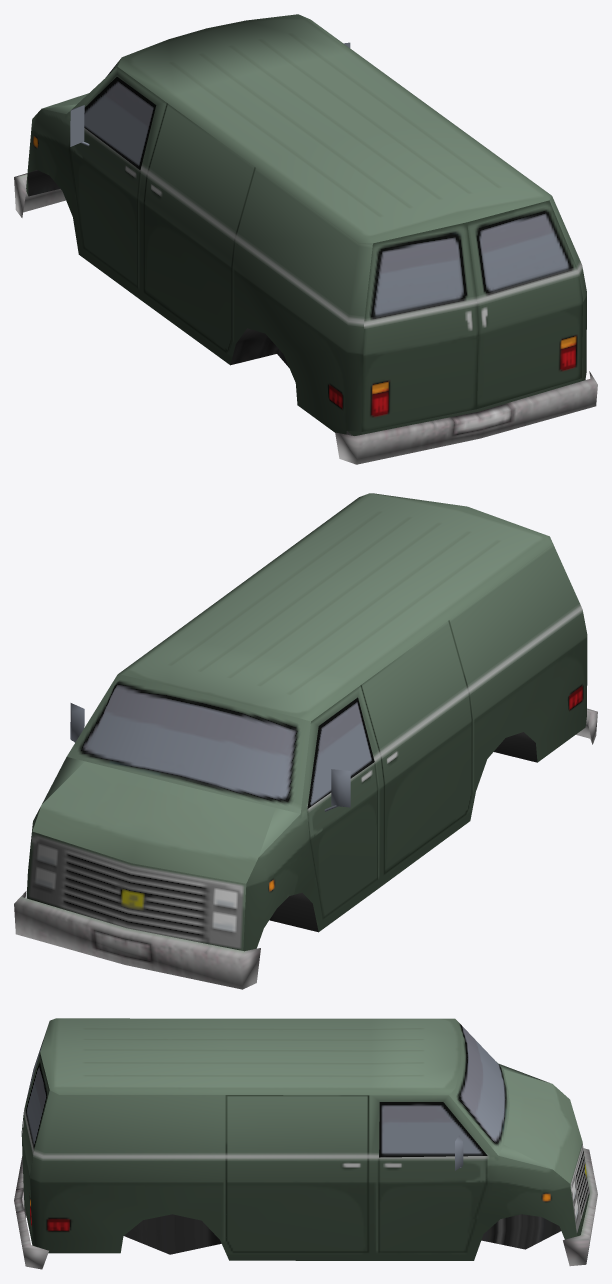
Rendered from Vehicles_Van.FBX.
3 renders of one model, top to bottom at view 1: azimuth 30°, elevation 25°; view 2: azimuth 150°, elevation 25°; view 3: azimuth 270°, elevation 25°, orthographic. The views are drawn at different scales.
Visible parts, largest first — view 1: Vehicles_Van; view 2: Vehicles_Van; view 3: Vehicles_Van.
Part boxes in pixels (left/top/right/bottom): Vehicles_Van: left=14, top=14, right=597, bottom=464; Vehicles_Van: left=14, top=493, right=597, bottom=989; Vehicles_Van: left=14, top=1018, right=597, bottom=1269.
Size of the model in its own units: 105 by 78.29 by 235.
1 material, 1 textured.
